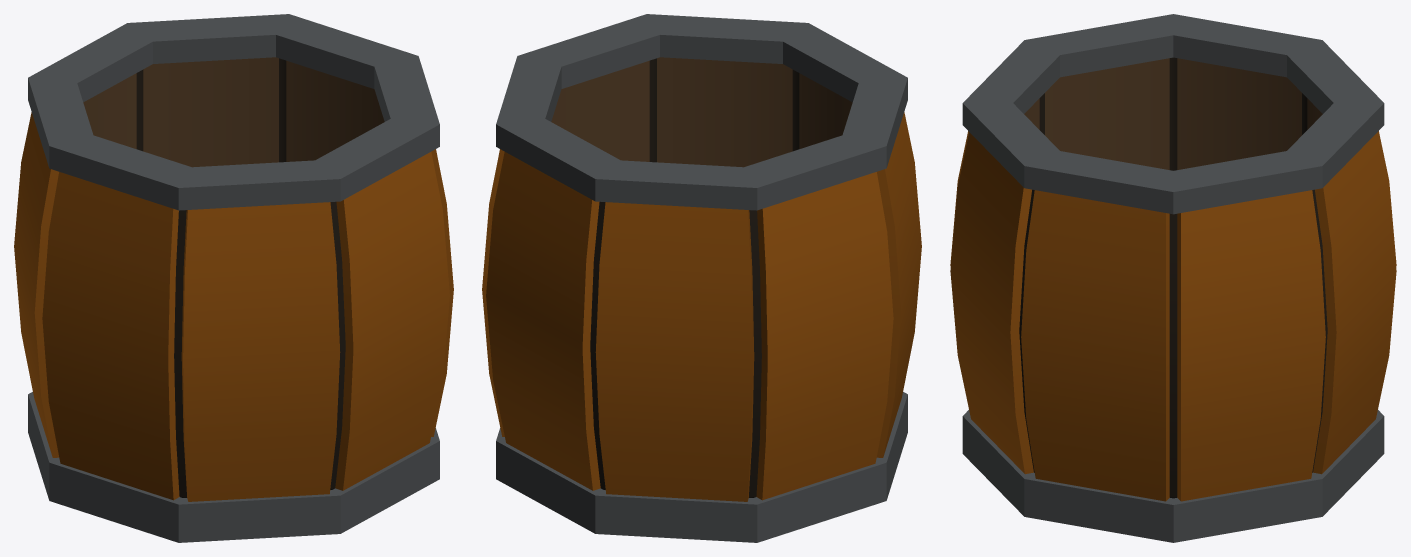
The model's file is Barrel.fbx.
3 renders of one model, left to right at view 1: azimuth 30°, elevation 25°; view 2: azimuth 150°, elevation 25°; view 3: azimuth 270°, elevation 25°, orthographic.
Parts seen in each view (by area): view 1: Barrel; view 2: Barrel; view 3: Barrel.
Boxes of the visible parts, x1,y1,x2,y2 form: Barrel: (14,14,453,542); Barrel: (482,14,921,542); Barrel: (950,14,1396,542).
Bounding box in the file's own units: 0.8902 × 0.7724 × 0.8902.
